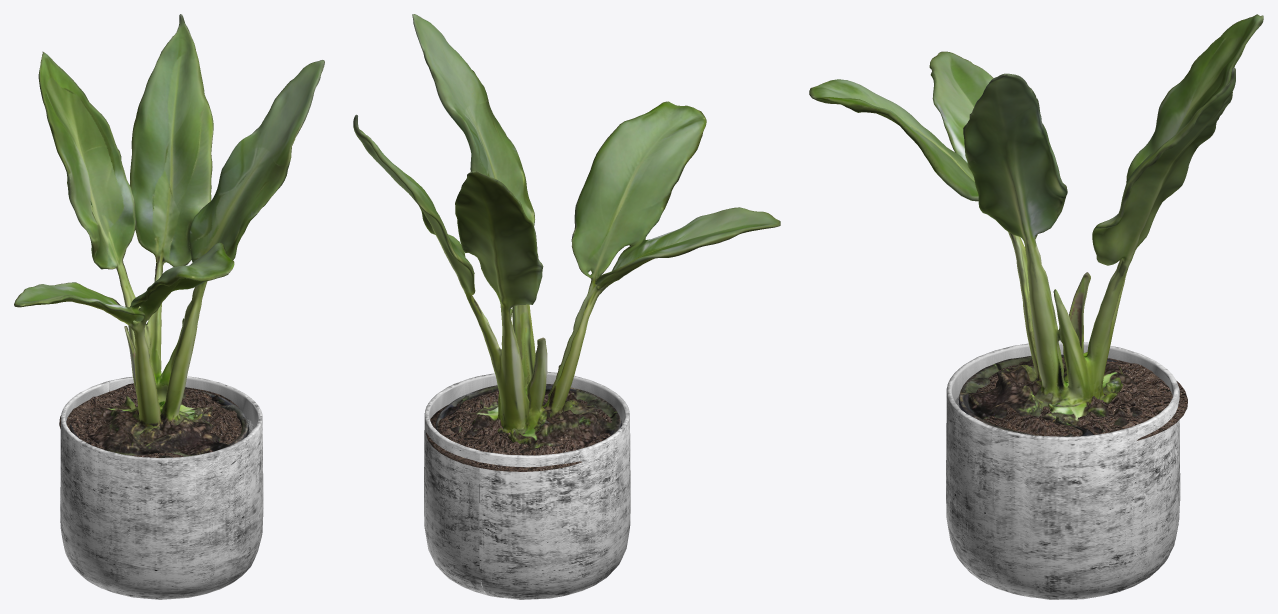
The model's file is FAtboiglb.glb.
3 renders of one model, left to right at view 1: azimuth 30°, elevation 25°; view 2: azimuth 150°, elevation 25°; view 3: azimuth 270°, elevation 25°, orthographic. The views are drawn at different scales.
Visible parts, largest first — view 1: Mesh_0.020, G-AUL10_0; view 2: Mesh_0.020, G-AUL10_0; view 3: Mesh_0.020, G-AUL10_0.
Part boxes in pixels (bbox=[...]): Mesh_0.020: bbox=[14, 14, 324, 457]; G-AUL10_0: bbox=[59, 376, 263, 599]; Mesh_0.020: bbox=[353, 14, 780, 569]; G-AUL10_0: bbox=[424, 371, 630, 599]; Mesh_0.020: bbox=[809, 14, 1263, 436]; G-AUL10_0: bbox=[946, 341, 1187, 599].
Bounding box in the file's own units: 1.29 × 1.83 × 1.31.
Materials: 3 (3 with a texture image).
